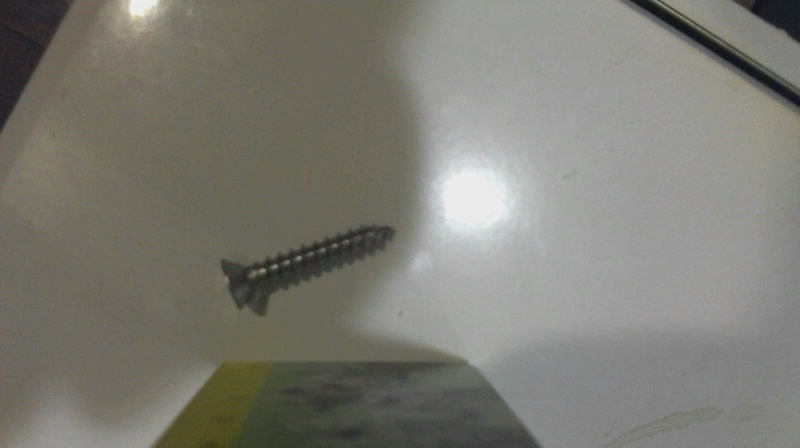S001: (217, 222, 399, 313)
